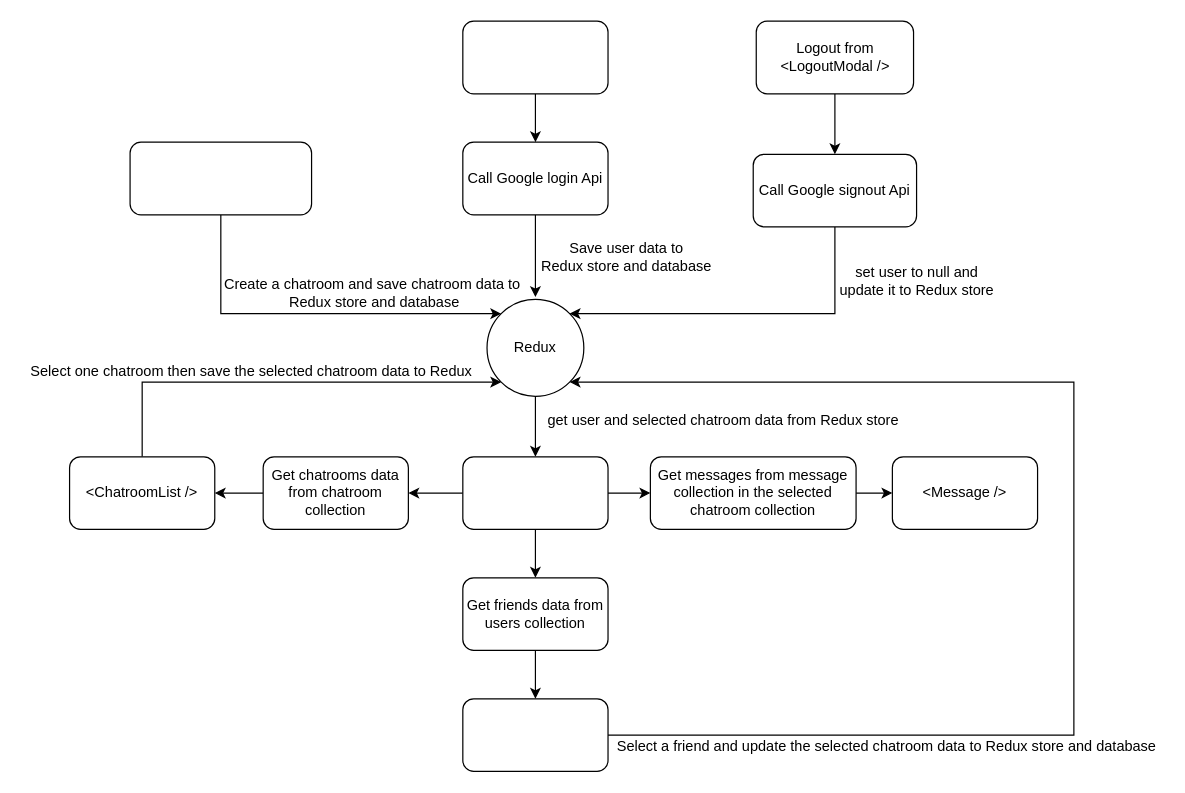
The diagram is 1185 pixels wide and 793 high, and some of its shapes have lost their labels. The shapes that lost their labels are listed below. From the top down, each one's box as (x1, y1, x2, y2) in pixels, then its label:
(462, 20, 608, 94): <App />
(129, 141, 312, 215): Create a room from <CreateChatroomModal />
(462, 456, 608, 529): <Messenger />
(462, 698, 608, 771): <Friend />
